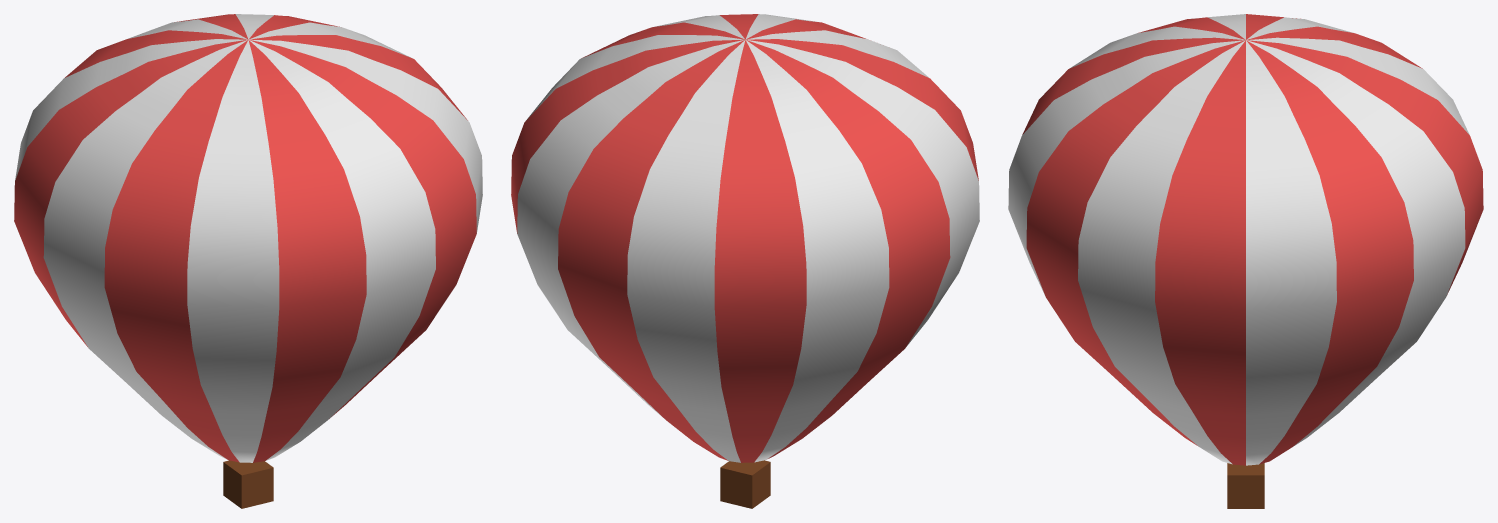
Rendered from balloon.fbx.
3 renders of one model, left to right at view 1: azimuth 30°, elevation 25°; view 2: azimuth 150°, elevation 25°; view 3: azimuth 270°, elevation 25°, orthographic.
Visible parts, largest first — view 1: balloon; view 2: balloon; view 3: balloon.
Boxes of the visible parts, <box> form: balloon: <box>14,14,482,508</box>; balloon: <box>511,14,979,508</box>; balloon: <box>1008,14,1483,508</box>.
Bounding box in the file's own units: 302 × 323 × 302.
